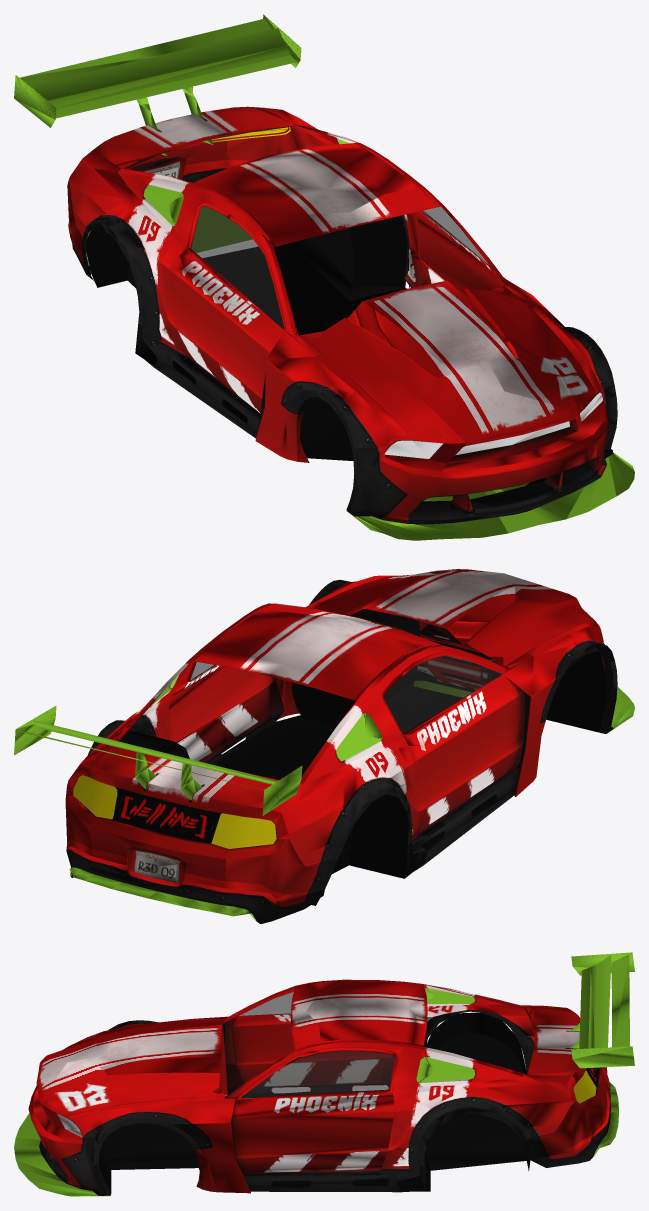
The model's file is MUST 09 .FBX.
3 views of the same model, one above another, from view 1: azimuth 30°, elevation 25°; view 2: azimuth 150°, elevation 25°; view 3: azimuth 270°, elevation 25° (orthographic). The views are drawn at different scales.
Visible parts, largest first — view 1: Plane001; view 2: Plane001, Object001; view 3: Plane001.
Boxes of the visible parts, box(x1,y1,x2,y2) form: Plane001: box(14, 14, 634, 540); Plane001: box(14, 569, 634, 923); Object001: box(415, 631, 498, 691); Plane001: box(14, 952, 634, 1196).
Size of the model in its own units: 97.65 by 66.18 by 250.
